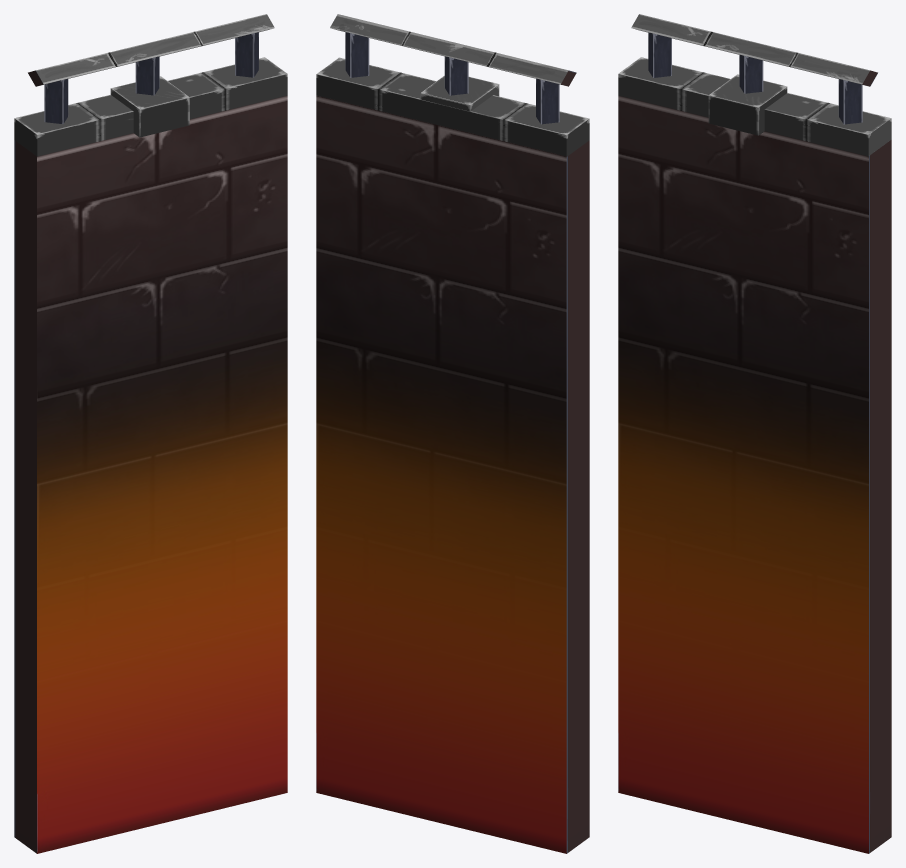
File: Lava Edge Side.FBX
The picture shows the model from 3 angles, left to right: view 1: azimuth 30°, elevation 25°; view 2: azimuth 150°, elevation 25°; view 3: azimuth 330°, elevation 25°; orthographic projection.
Visible parts, largest first — view 1: outer_corner010, outer_corner_rand009; view 2: outer_corner010, outer_corner_rand009; view 3: outer_corner010, outer_corner_rand009.
Part boxes in pixels (left/top/right/bottom): outer_corner010: left=14, top=14, right=287, bottom=853; outer_corner_rand009: left=14, top=57, right=287, bottom=156; outer_corner010: left=316, top=14, right=589, bottom=853; outer_corner_rand009: left=316, top=57, right=589, bottom=156; outer_corner010: left=618, top=14, right=891, bottom=853; outer_corner_rand009: left=618, top=57, right=891, bottom=156.
Bounding box in the file's own units: 50.09 × 148 × 10.04.
